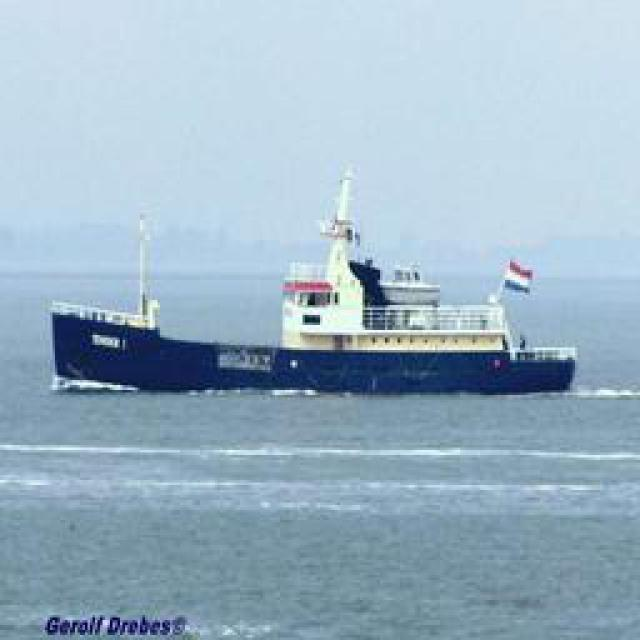Ship: (73, 158, 578, 396)
